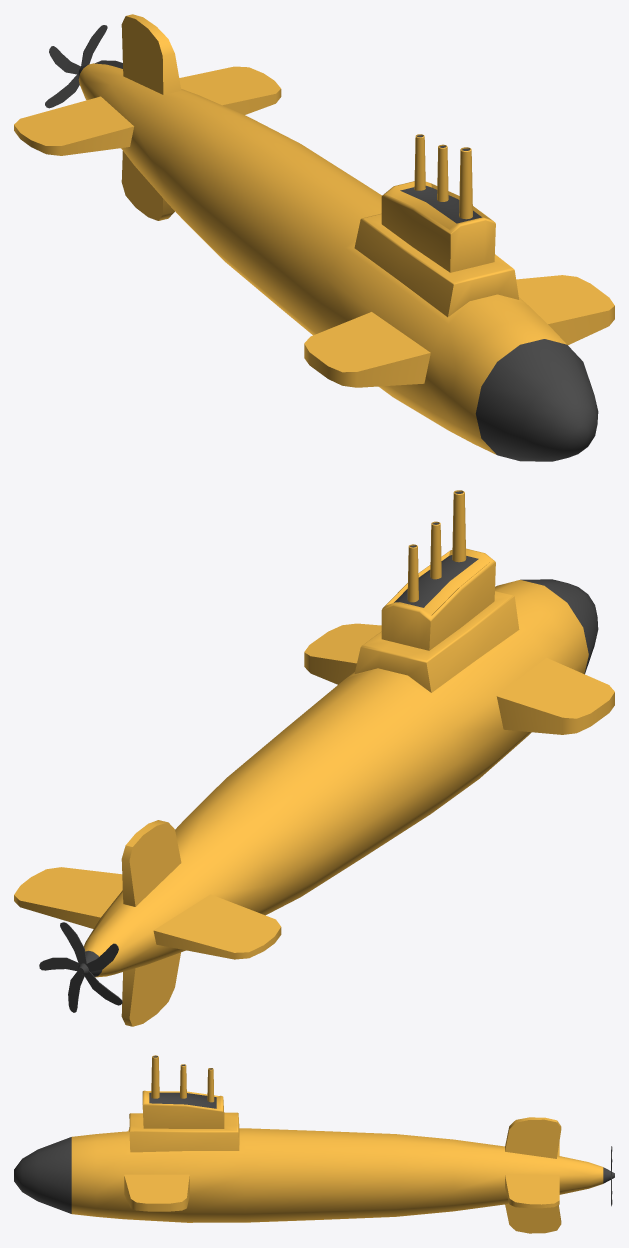
The model's file is Submarine_1.fbx.
3 views of the same model, one above another, from view 1: azimuth 30°, elevation 25°; view 2: azimuth 150°, elevation 25°; view 3: azimuth 270°, elevation 25° (orthographic). The views are drawn at different scales.
Visible parts, largest first — view 1: Submarine_1, Submarine_1 Fan; view 2: Submarine_1, Submarine_1 Fan; view 3: Submarine_1.
Boxes of the visible parts, x1,y1,x2,y2 form: Submarine_1: (14, 14, 614, 461); Submarine_1 Fan: (45, 25, 122, 108); Submarine_1: (14, 490, 614, 1026); Submarine_1 Fan: (39, 922, 122, 1012); Submarine_1: (14, 1055, 603, 1233).
Size of the model in its own units: 0.3331 by 0.332 by 1.02.
